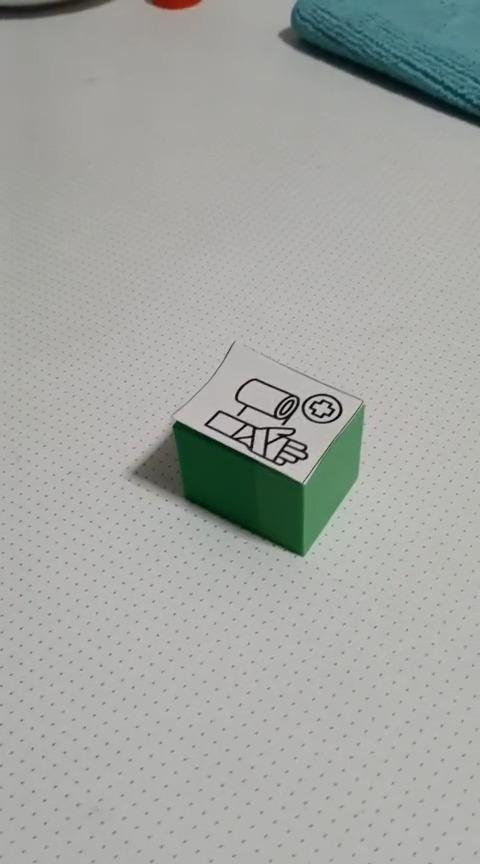Bandages: (170, 338, 365, 556), (289, 0, 479, 124)
